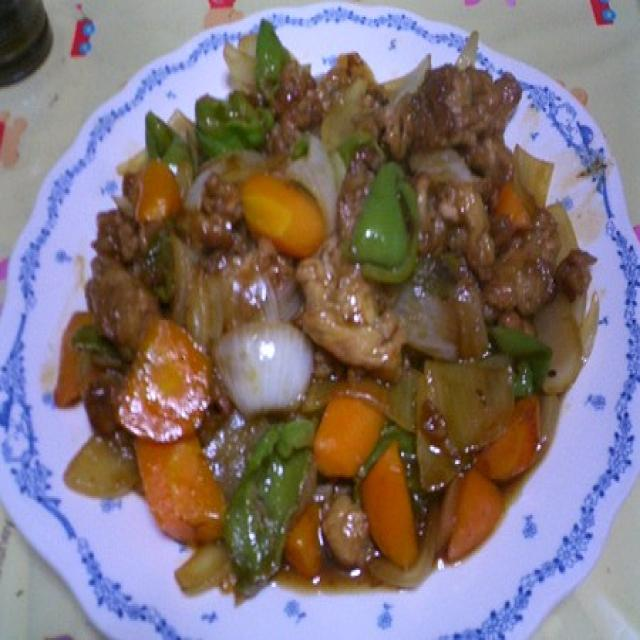猪肉菜式: (47, 13, 597, 606)
